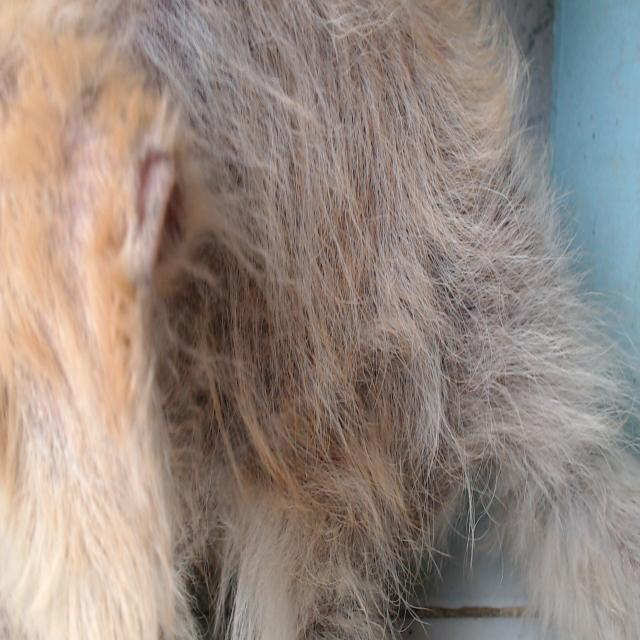demodicosis: (56, 122, 159, 266)
